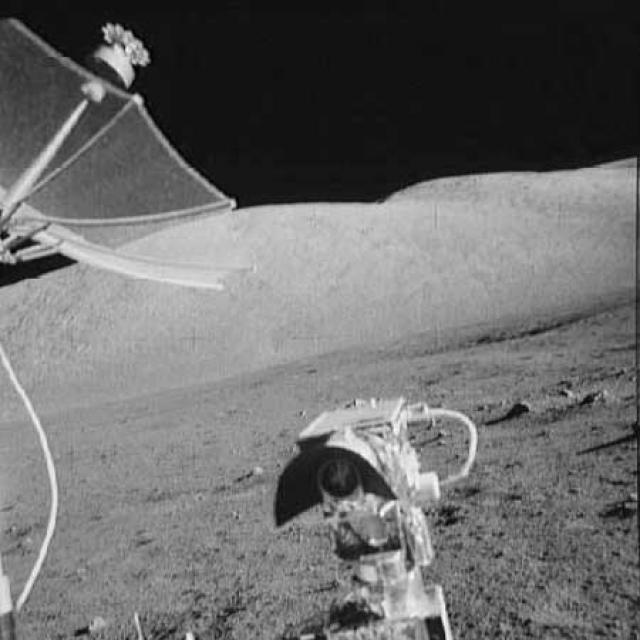artifact: (0, 5, 268, 301), (265, 381, 492, 639), (0, 351, 66, 617)
rock: (585, 387, 622, 410), (237, 460, 263, 482), (549, 378, 572, 402), (504, 400, 536, 417)
